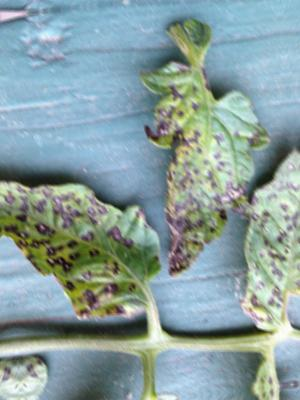Tomato Septoria leaf spot: (129, 1, 276, 289), (0, 158, 162, 329), (219, 130, 300, 344)
